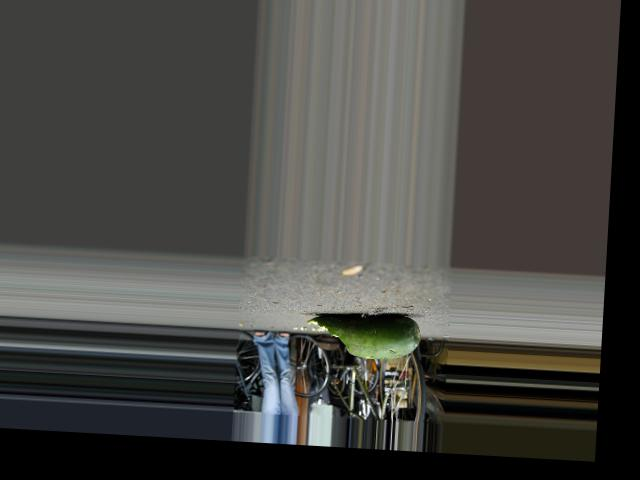cucumber: (303, 310, 421, 361)
